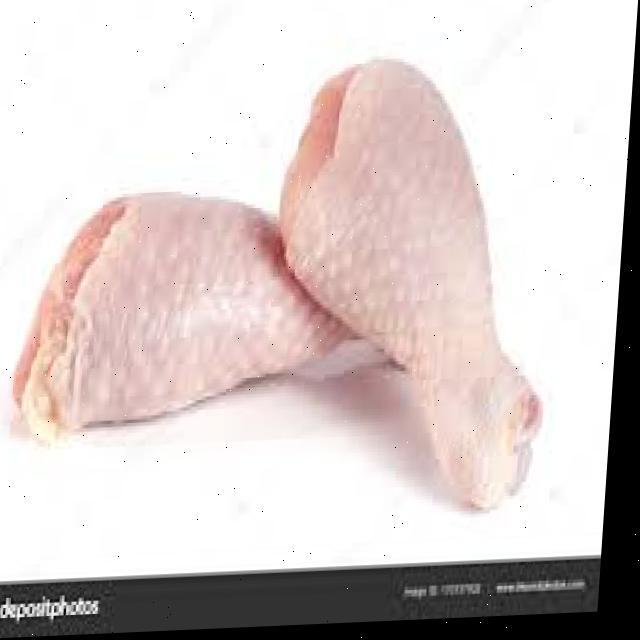leg: (261, 50, 568, 527), (11, 174, 331, 464)
